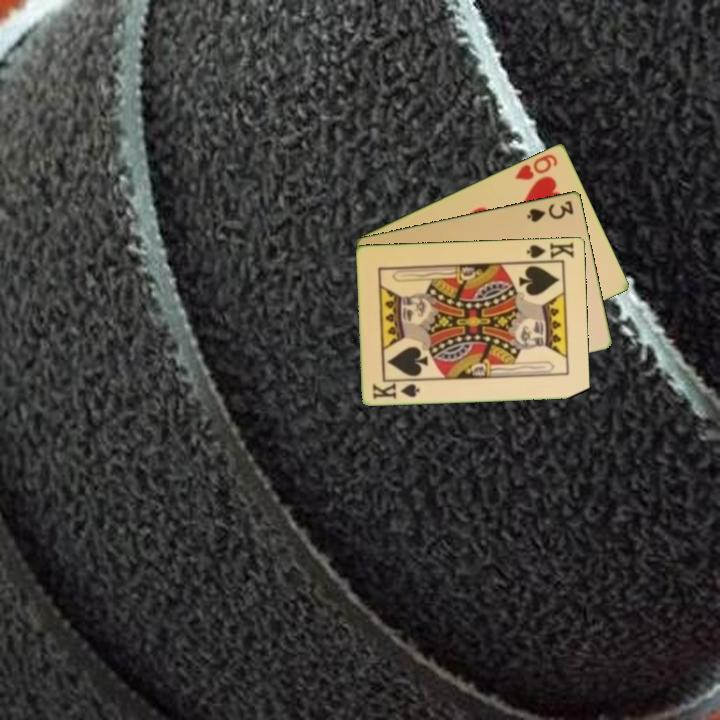3s: (524, 197, 577, 225)
6h: (511, 150, 561, 183)
Ks: (522, 239, 577, 264), (369, 379, 423, 401)
